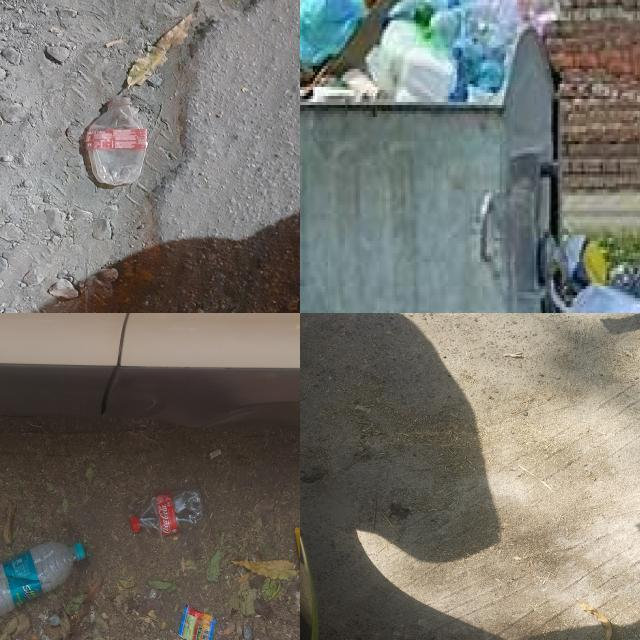Background: (300, 313, 640, 640), (0, 417, 300, 640), (0, 55, 199, 219), (115, 141, 122, 148)
Garbage: (300, 0, 558, 104)
Plastic_Bag: (300, 0, 365, 67), (560, 285, 640, 313)
Plastic_bottle: (391, 0, 524, 101), (0, 542, 85, 615), (85, 98, 148, 185), (130, 490, 203, 538)
Plastic_wraper: (178, 604, 217, 640)
